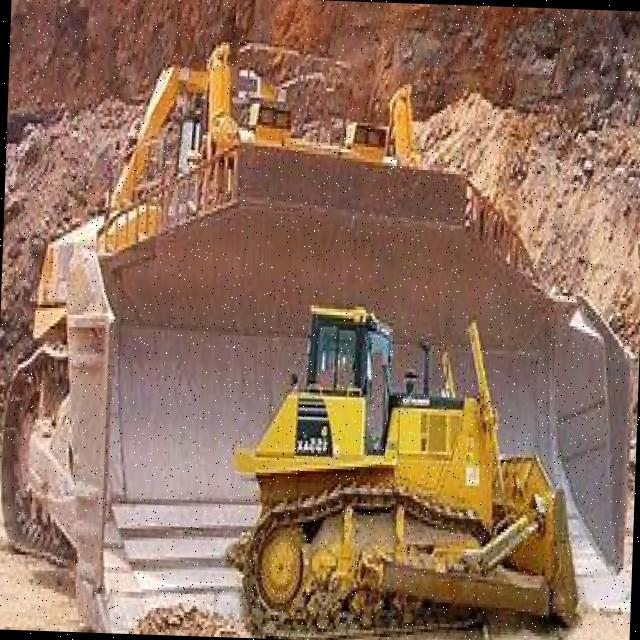Bulldozer: (229, 287, 587, 640)
